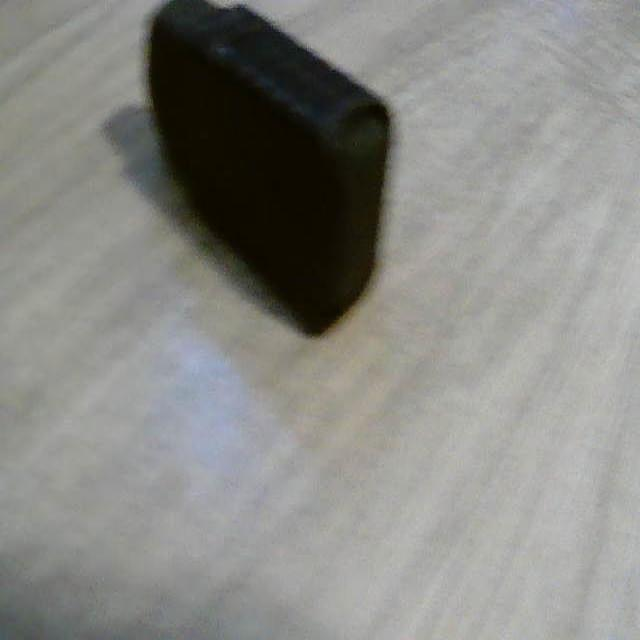borracha: (142, 0, 410, 394)
